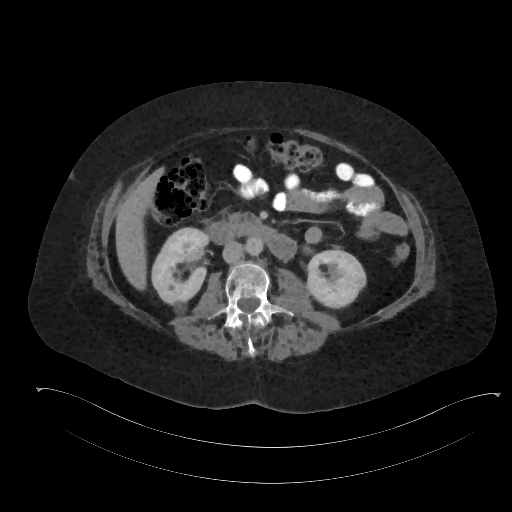Lesion: (169, 296, 187, 317)
